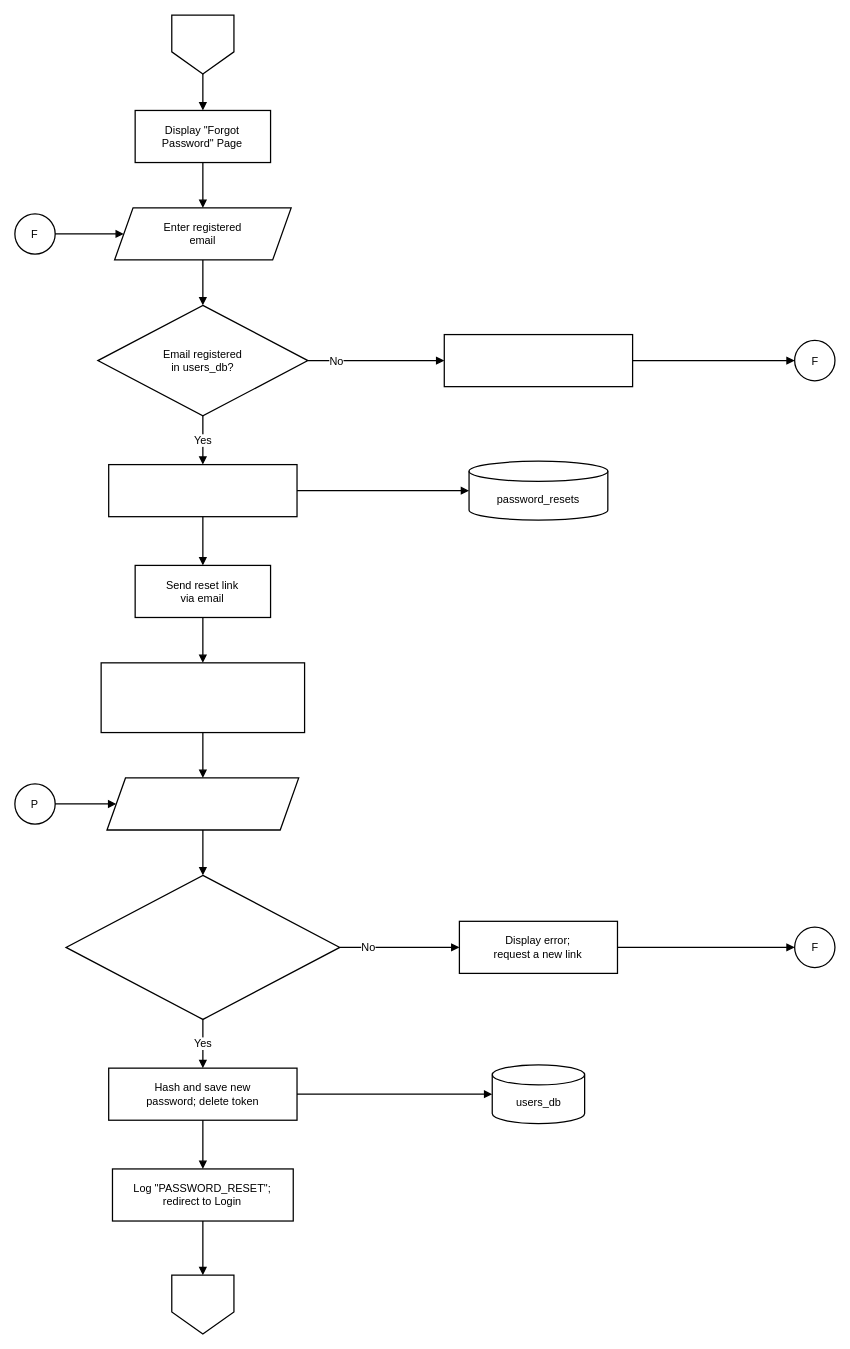
This 850x1349 diagram has some shape labels left out. The shapes that lost their labels are listed below. From the top down, each one's box as (x1, y1, x2, y2) in pixels, then its label:
(171, 14, 234, 74): AE
(443, 334, 633, 387): Display "No account found with this email"
(108, 464, 297, 517): Generate reset token (hashed, valid 60 min)
(100, 662, 305, 733): Open reset link; display "Reset Password" Page
(106, 777, 299, 830): Enter new password and confirmation
(65, 874, 340, 1020): Token valid, not expired and password confirmed?
(171, 1274, 234, 1334): AC
